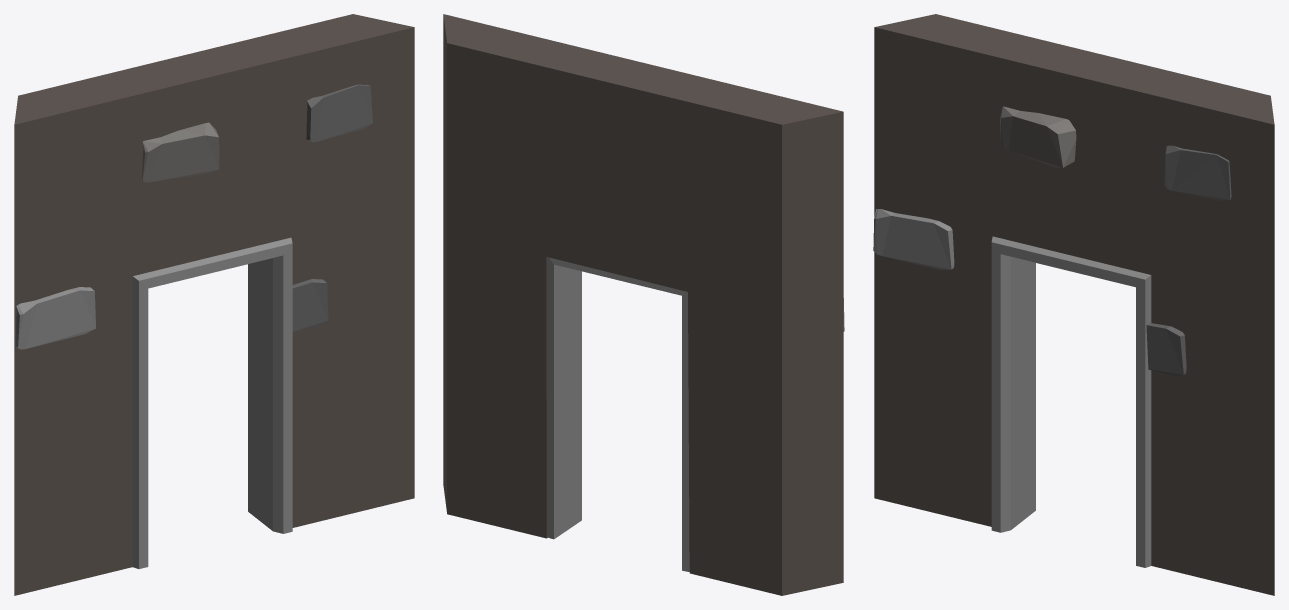
Rendered from MCastle_SquareWalls_Door.FBX.
3 views of the same model, side by side, from view 1: azimuth 30°, elevation 25°; view 2: azimuth 150°, elevation 25°; view 3: azimuth 330°, elevation 25° (orthographic).
Parts seen in each view (by area): view 1: MCastle_SquareWalls_Door_LOD0; view 2: MCastle_SquareWalls_Door_LOD0; view 3: MCastle_SquareWalls_Door_LOD0.
Part boxes in pixels (x1=…): MCastle_SquareWalls_Door_LOD0: x1=14, y1=14, x2=414, y2=595; MCastle_SquareWalls_Door_LOD0: x1=443, y1=14, x2=844, y2=595; MCastle_SquareWalls_Door_LOD0: x1=873, y1=14, x2=1274, y2=595.
Size of what is drawn, in the model's own units: 4 by 4.5 by 0.6841.
